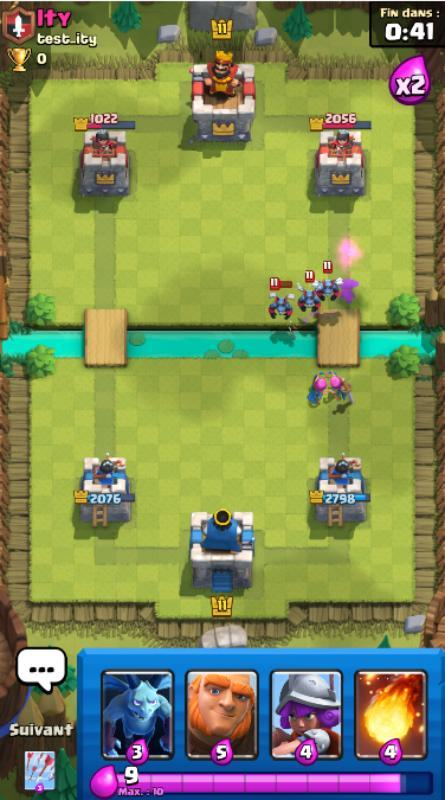archere: (305, 370, 329, 407), (327, 367, 350, 403)
gargouille: (312, 260, 343, 302), (294, 270, 322, 314), (268, 277, 293, 322)
